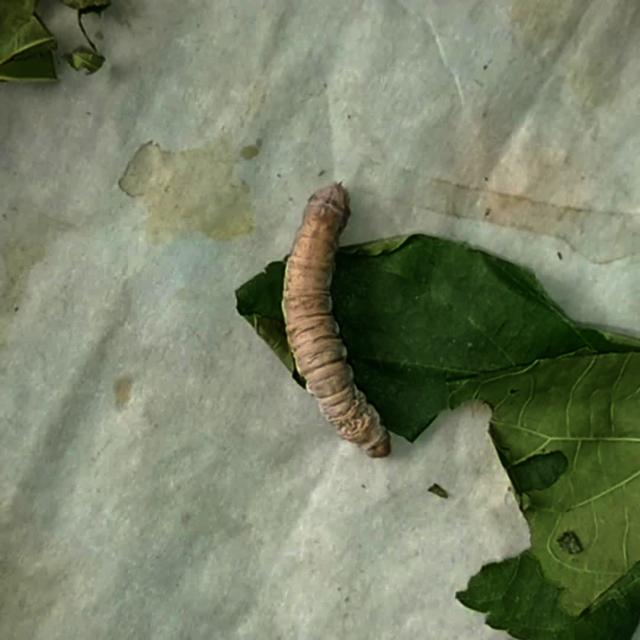Grasserie: (270, 167, 411, 471)
